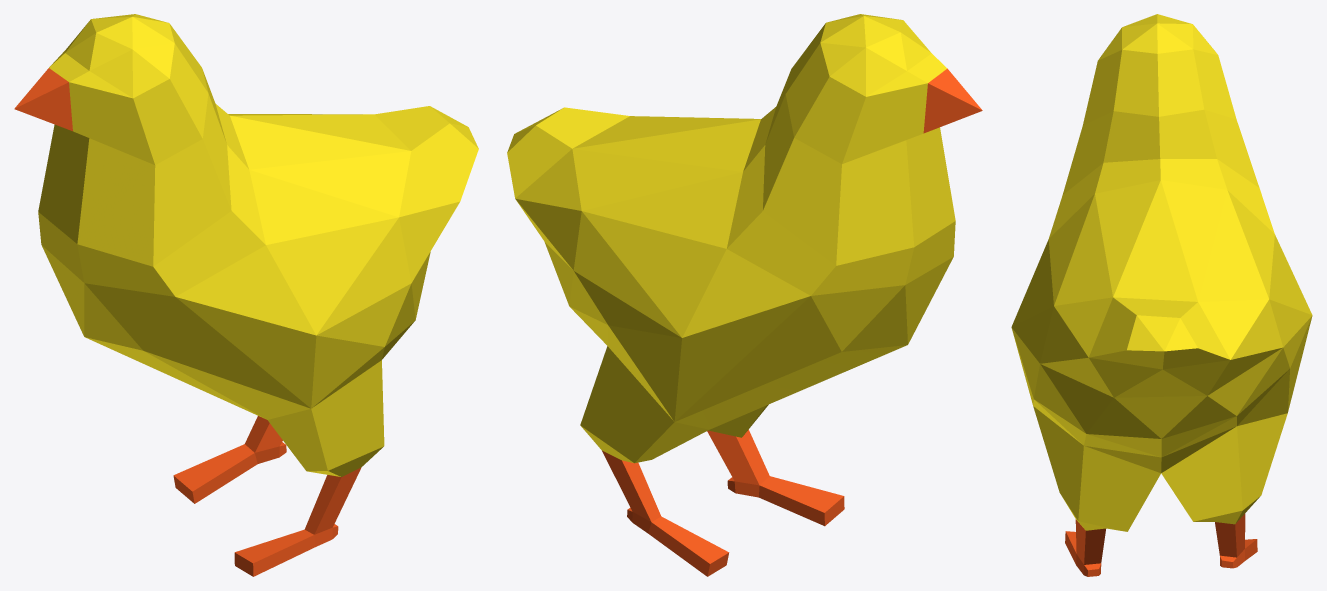
The model's file is chickWalking2.obj.
3 renders of one model, left to right at view 1: azimuth 30°, elevation 25°; view 2: azimuth 150°, elevation 25°; view 3: azimuth 270°, elevation 25°, orthographic. The views are drawn at different scales.
Visible parts, largest first — view 1: Icosphere.001_Icosphere.002; view 2: Icosphere.001_Icosphere.002; view 3: Icosphere.001_Icosphere.002.
Boxes of the visible parts, x1=… form: Icosphere.001_Icosphere.002: x1=14, y1=14, x2=478, y2=576; Icosphere.001_Icosphere.002: x1=507, y1=14, x2=982, y2=576; Icosphere.001_Icosphere.002: x1=1011, y1=14, x2=1312, y2=576.
Size of the model in its own units: 11.98 by 13.57 by 7.54.
